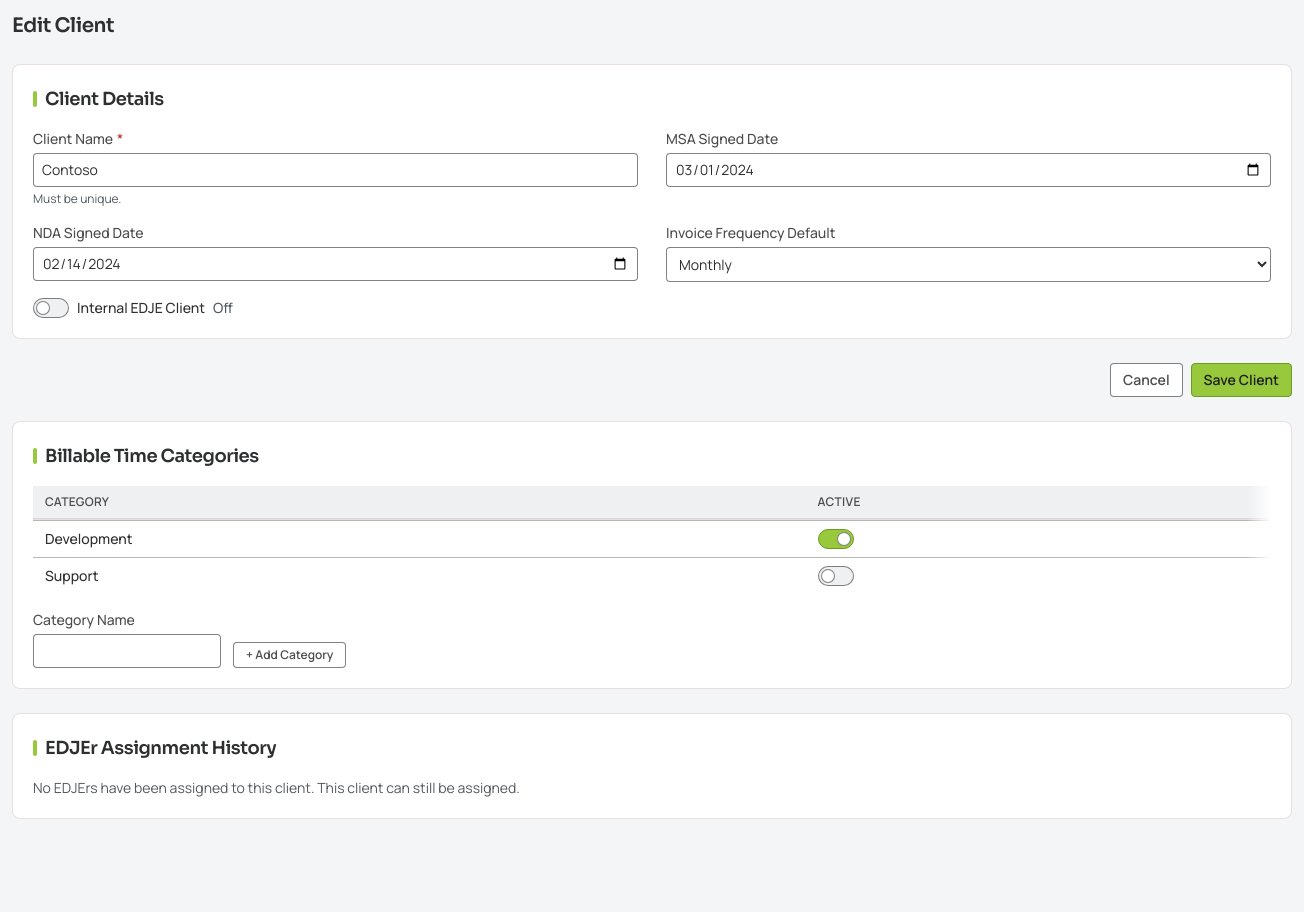
Test: ClientFormPage — editing › surfaces a refused category update inline
Step 1. Click the switch named "development" → (836, 539), box [818,529,1259,549]
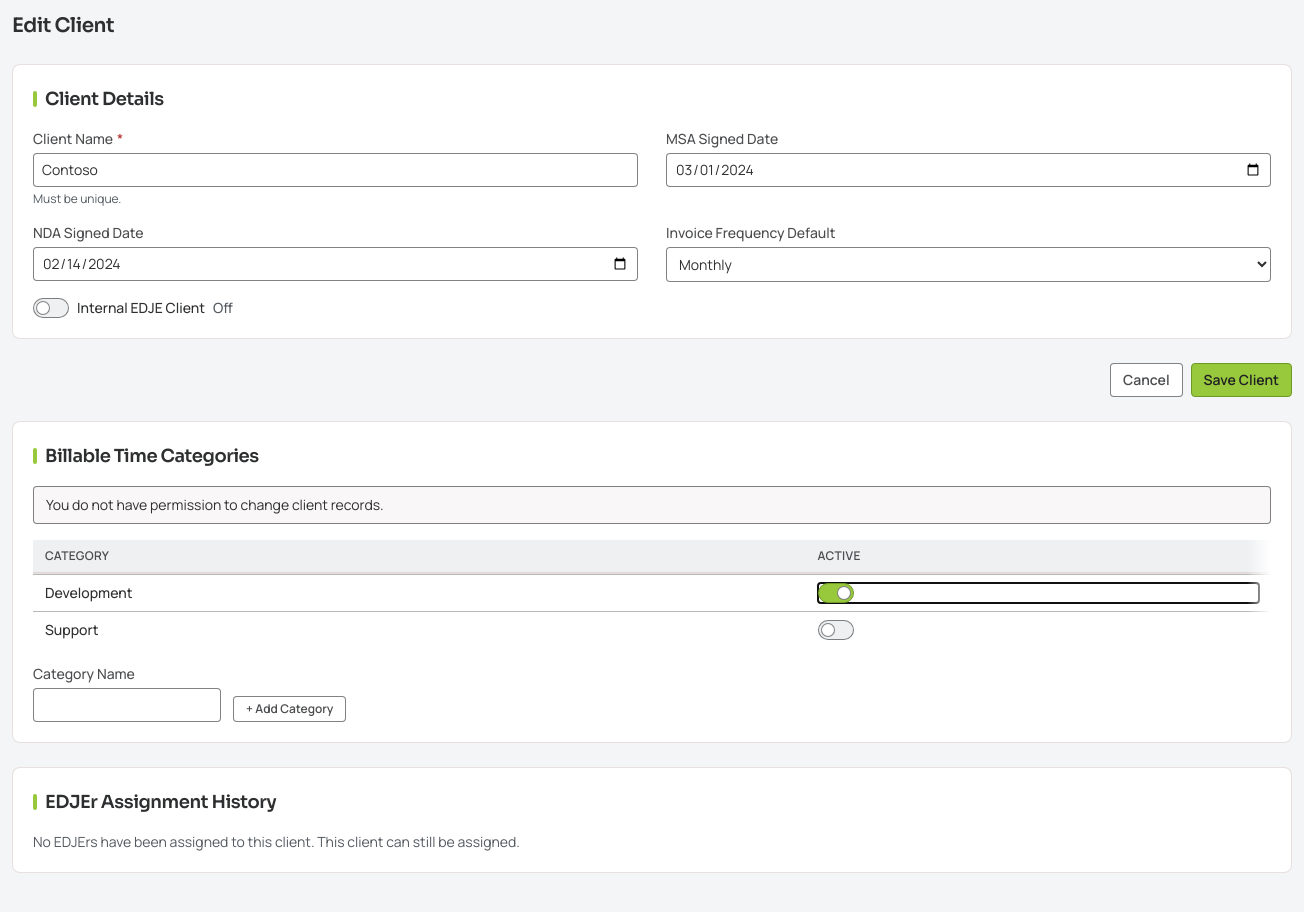
Now the message shows "permission", box [46,495,384,514]
